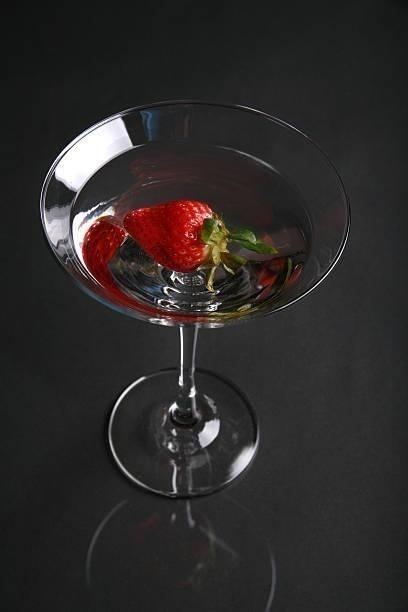glass-wine: (38, 98, 351, 500)
